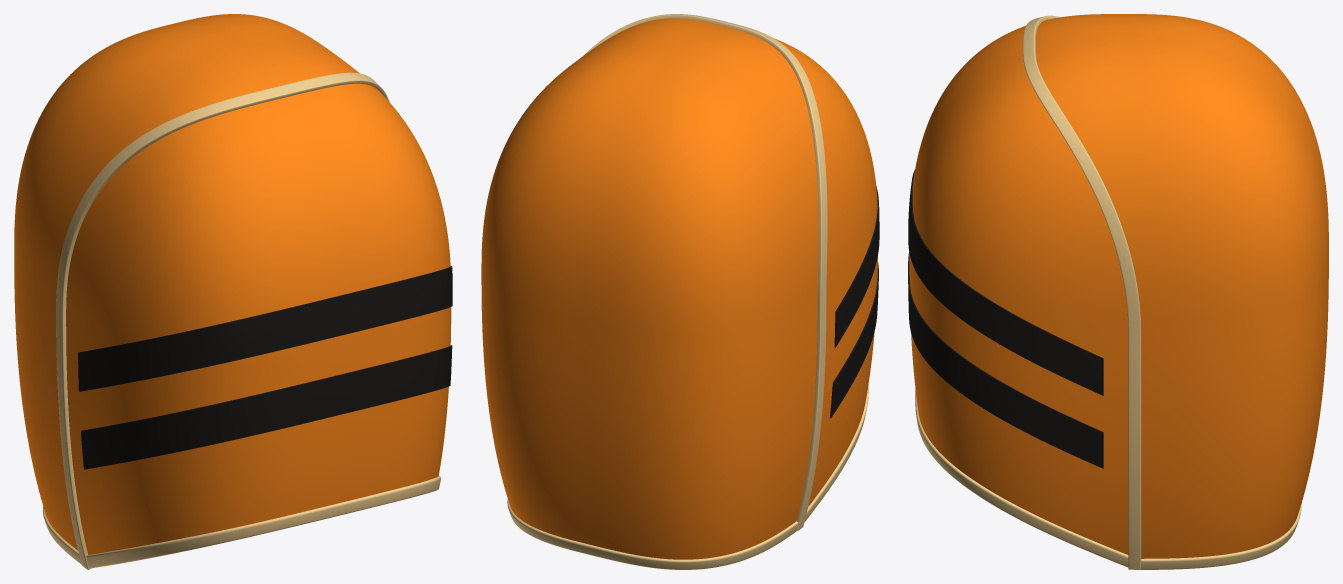
The model's file is helmet_lamp.glb.
The picture shows the model from 3 angles, left to right: view 1: azimuth 30°, elevation 25°; view 2: azimuth 150°, elevation 25°; view 3: azimuth 270°, elevation 25°; orthographic projection. The views are drawn at different scales.
Visible parts, largest first — view 1: Helmet_Shell, Helmet_Stripe_Upper, Helmet_Stripe_Lower, Helmet_Trim_Seam, Helmet_Trim_Rim; view 2: Helmet_Shell, Helmet_Trim_Seam, Helmet_Trim_Rim, Helmet_Stripe_Upper, Helmet_Stripe_Lower; view 3: Helmet_Shell, Helmet_Trim_Seam, Helmet_Stripe_Upper, Helmet_Stripe_Lower, Helmet_Trim_Rim.
Part boxes in pixels (<box>): Helmet_Shell: <box>14,14,451,554</box>; Helmet_Stripe_Upper: <box>78,266,452,391</box>; Helmet_Stripe_Lower: <box>81,345,452,469</box>; Helmet_Trim_Seam: <box>56,72,389,569</box>; Helmet_Trim_Rim: <box>42,476,440,568</box>; Helmet_Shell: <box>481,18,877,559</box>; Helmet_Trim_Seam: <box>583,14,827,530</box>; Helmet_Trim_Rim: <box>507,385,868,569</box>; Helmet_Stripe_Upper: <box>834,186,879,347</box>; Helmet_Stripe_Lower: <box>830,262,878,418</box>; Helmet_Shell: <box>909,14,1328,558</box>; Helmet_Trim_Seam: <box>1023,15,1141,569</box>; Helmet_Stripe_Upper: <box>908,170,1103,395</box>; Helmet_Stripe_Lower: <box>908,252,1103,468</box>; Helmet_Trim_Rim: <box>915,389,1301,569</box>.
Size of the model in its own units: 0.1403 by 0.2 by 0.1617.
